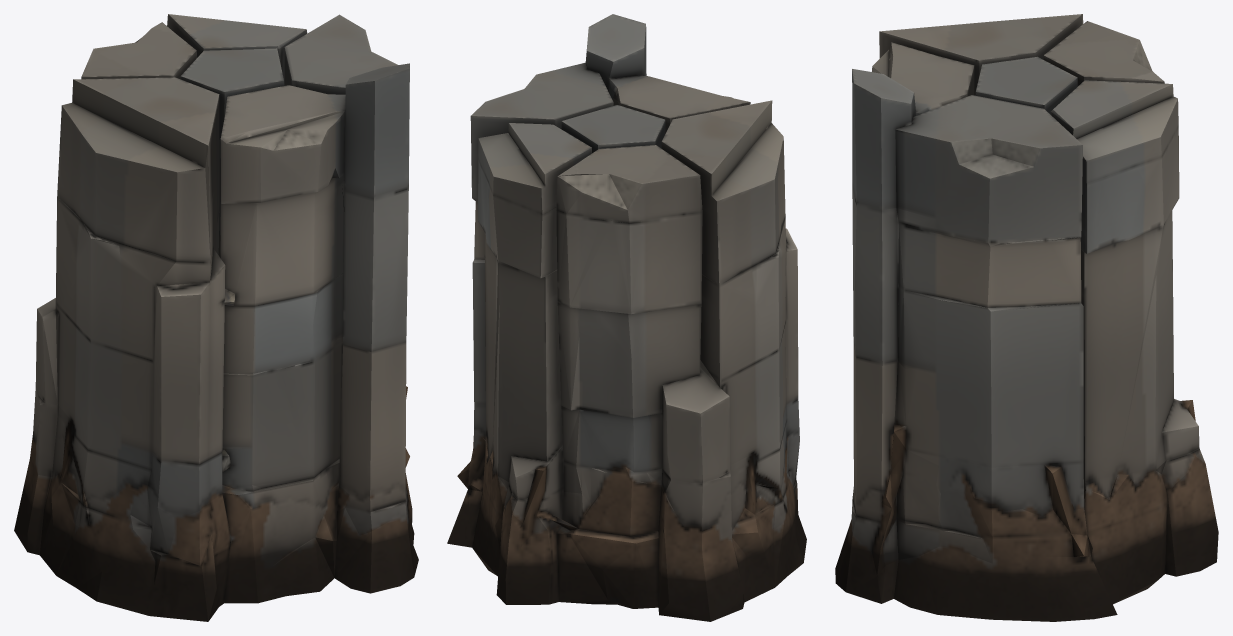
Rendered from earth_column_a.glb.
The picture shows the model from 3 angles, left to right: view 1: azimuth 30°, elevation 25°; view 2: azimuth 150°, elevation 25°; view 3: azimuth 270°, elevation 25°; orthographic projection. The views are drawn at different scales.
Parts seen in each view (by area): view 1: earth_column_a_LOD0; view 2: earth_column_a_LOD0; view 3: earth_column_a_LOD0.
Boxes of the visible parts, x1,y1,x2,y2 form: earth_column_a_LOD0: (14, 14, 418, 621); earth_column_a_LOD0: (447, 14, 806, 621); earth_column_a_LOD0: (835, 14, 1218, 621).
Size of what is drawn, in the model's own units: 4.82 by 7.16 by 4.88.
Materials: 1 (1 with a texture image).
